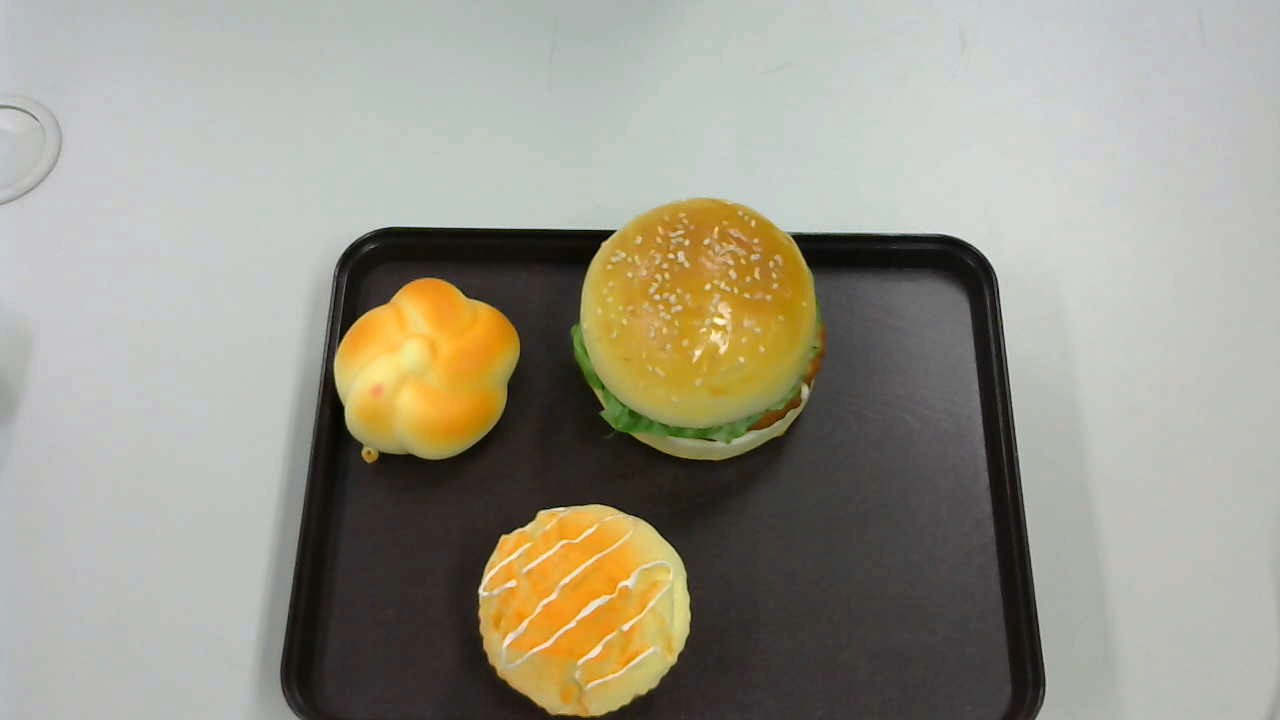cupcake: (478, 502, 692, 717)
hamburger: (571, 197, 827, 461)
twist bread: (331, 277, 521, 462)
